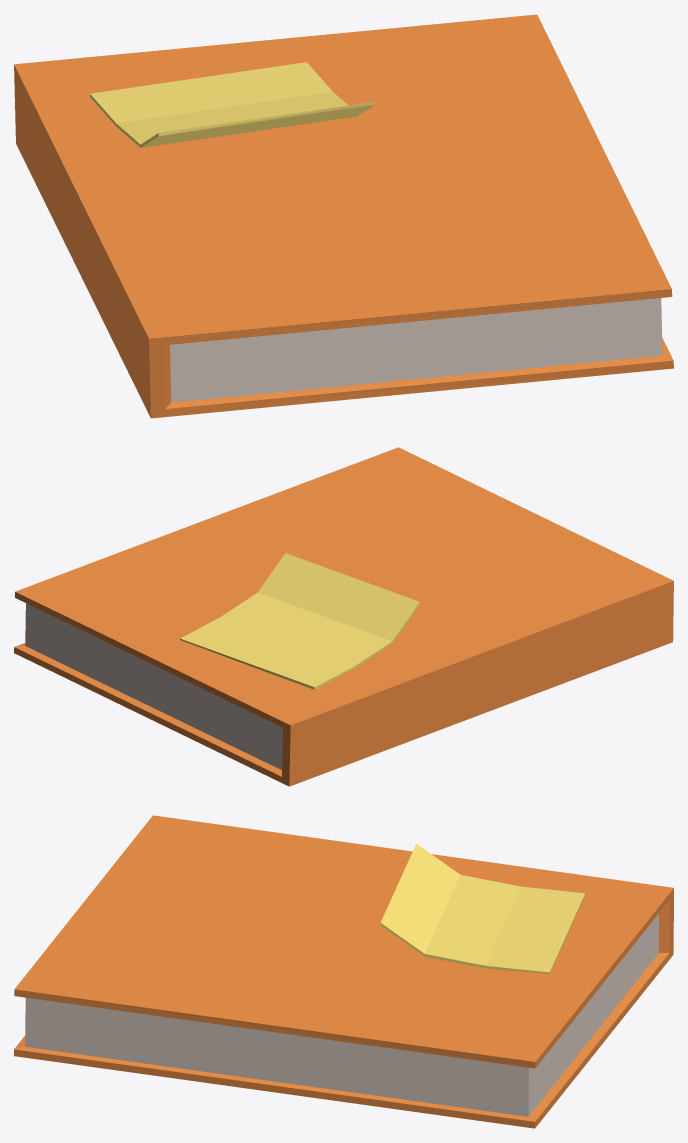
File: Book_9_Apartments_Material_0.fbx
The picture shows the model from 3 angles, top to bottom: view 1: azimuth 30°, elevation 25°; view 2: azimuth 150°, elevation 25°; view 3: azimuth 270°, elevation 25°; orthographic projection. The views are drawn at different scales.
Parts seen in each view (by area): view 1: Book_9_Apartments_Material_0.001; view 2: Book_9_Apartments_Material_0.001; view 3: Book_9_Apartments_Material_0.001.
Boxes of the visible parts, left/top/right/bottom form: Book_9_Apartments_Material_0.001: left=14, top=14, right=673, bottom=418; Book_9_Apartments_Material_0.001: left=14, top=447, right=673, bottom=786; Book_9_Apartments_Material_0.001: left=14, top=815, right=673, bottom=1128.
Size of the model in its own units: 0.2974 by 0.0586 by 0.3309.
